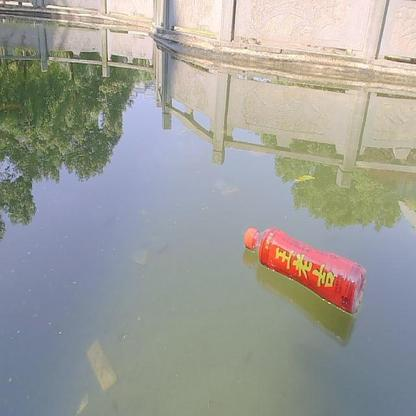plastic bottle: (242, 227, 367, 316)
